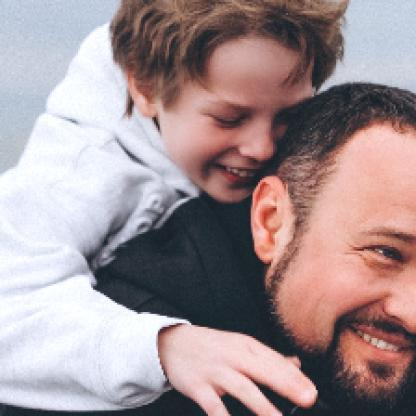child: (1, 1, 352, 415)
